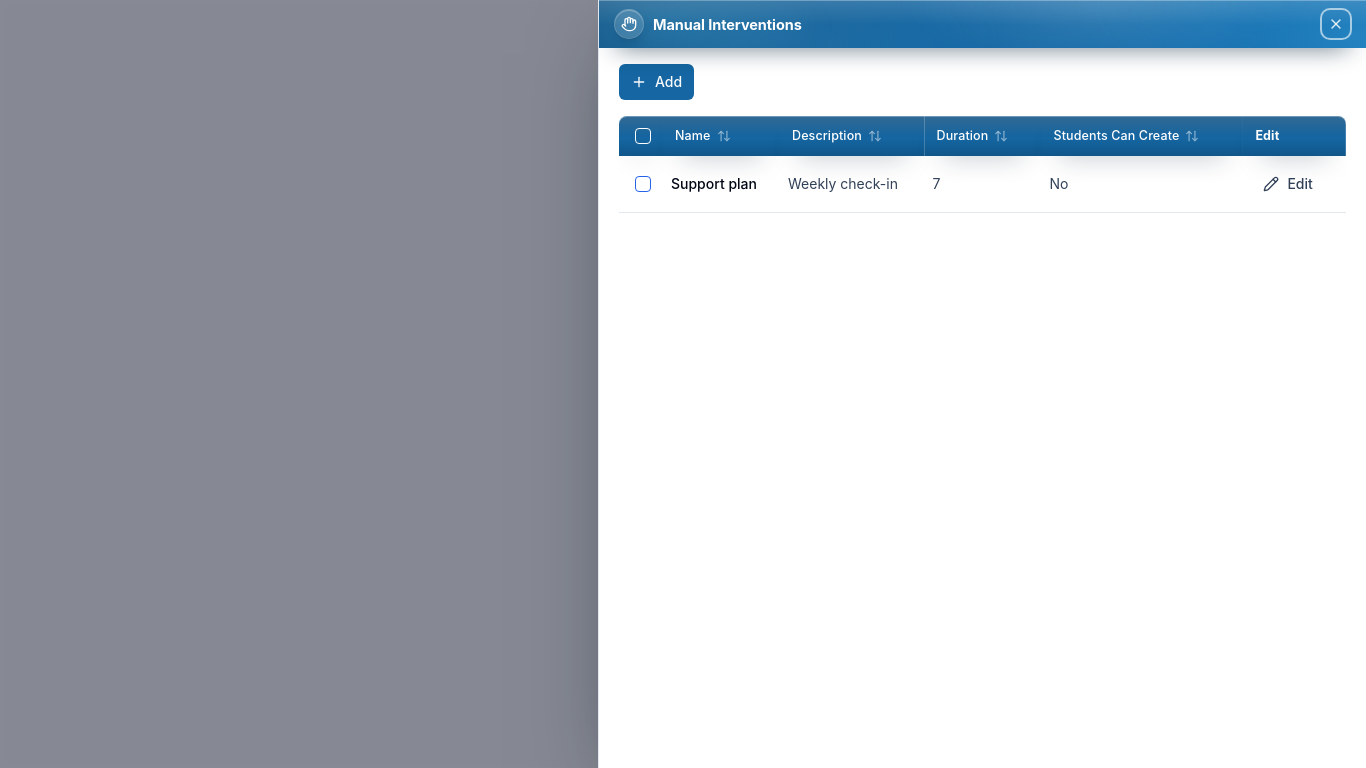
inline validation › shows per-field manual intervention errors that follow the current values
Expected: the text "Support plan" is shown, left=663, top=156, right=780, bottom=213
Click the button "Add".
click(657, 82)  # box left=619, top=64, right=694, bottom=100
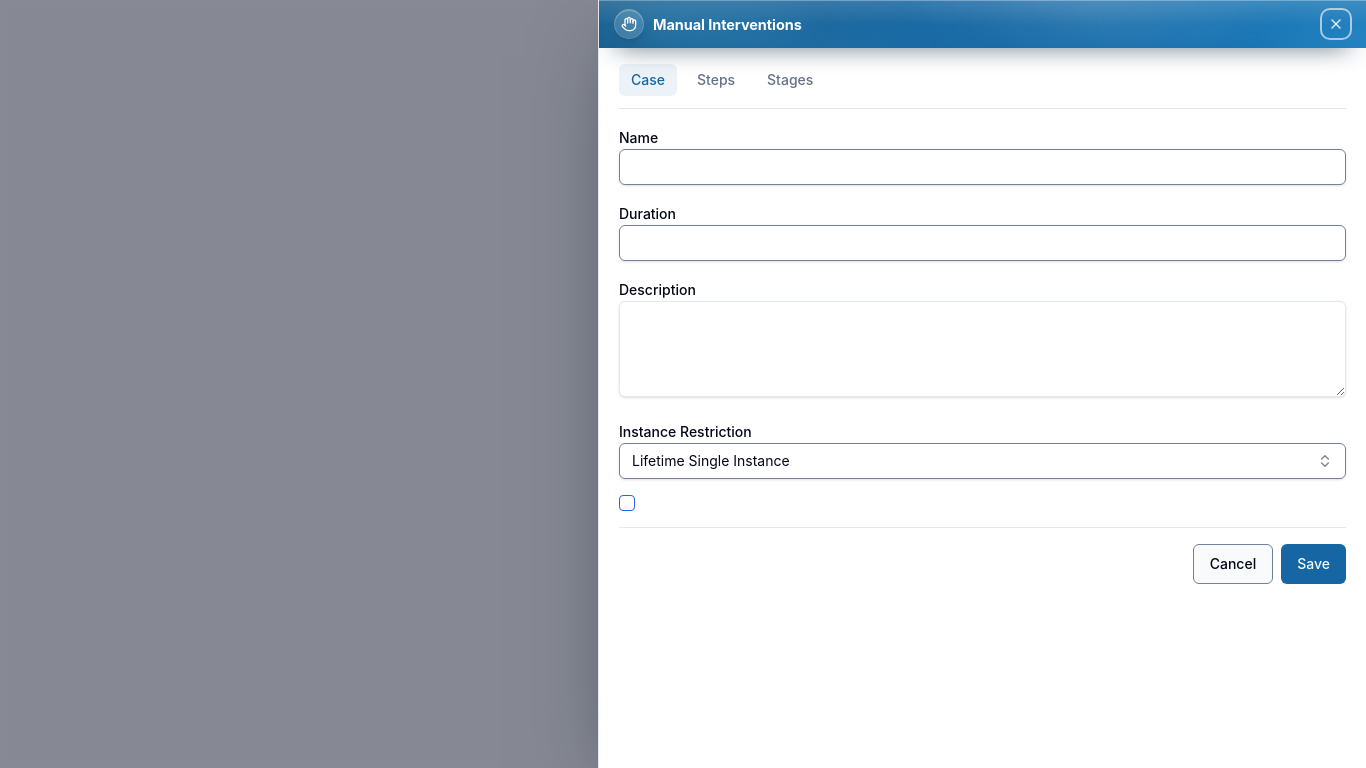
Click the button "Save".
click(1314, 564)  # box left=1281, top=544, right=1346, bottom=584
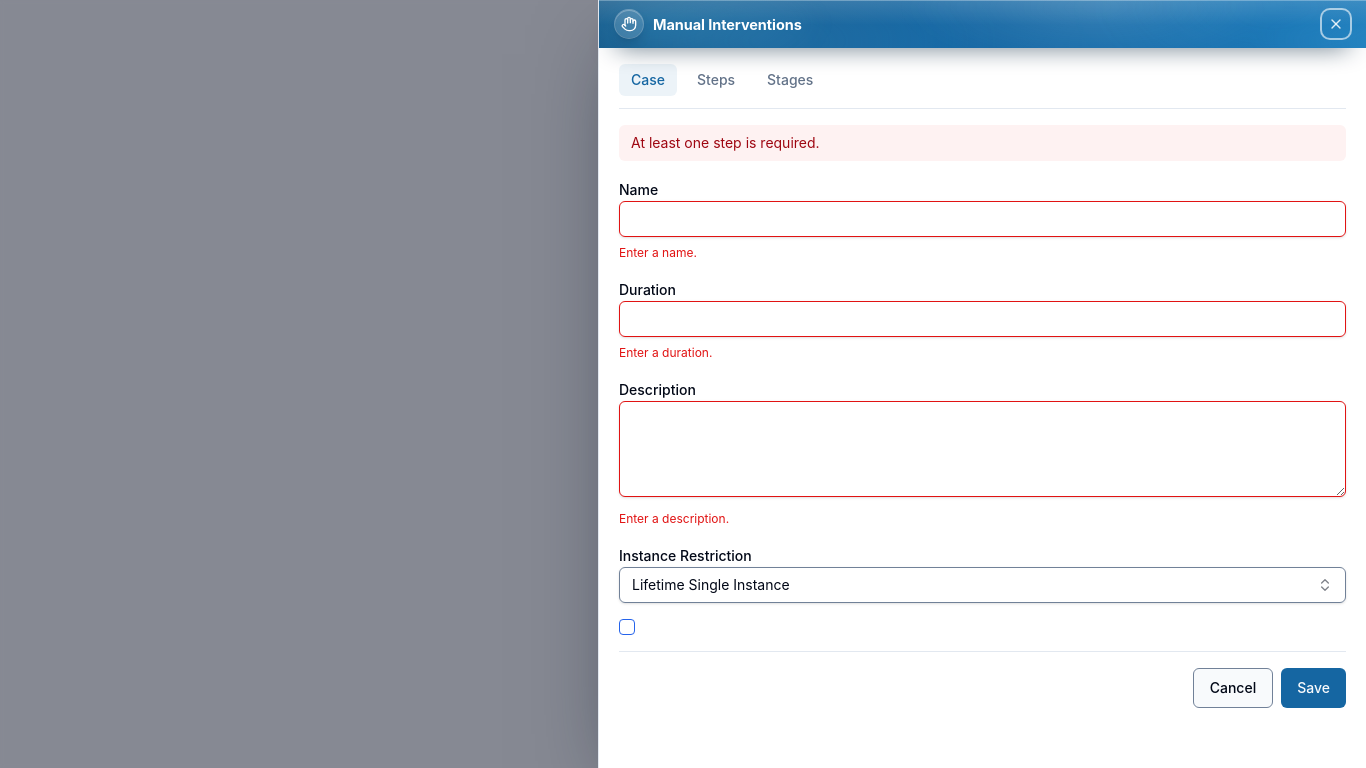
Now the text "Enter a name." is shown, box left=619, top=245, right=697, bottom=260
Now the text "Enter a description." is shown, box left=619, top=511, right=729, bottom=526
Now the message reads "At least one step is required.", box left=631, top=134, right=820, bottom=151
Type "Mentoring" into the field labelled "Name".
click(982, 219); type("Mentoring")  # box left=619, top=201, right=1346, bottom=237
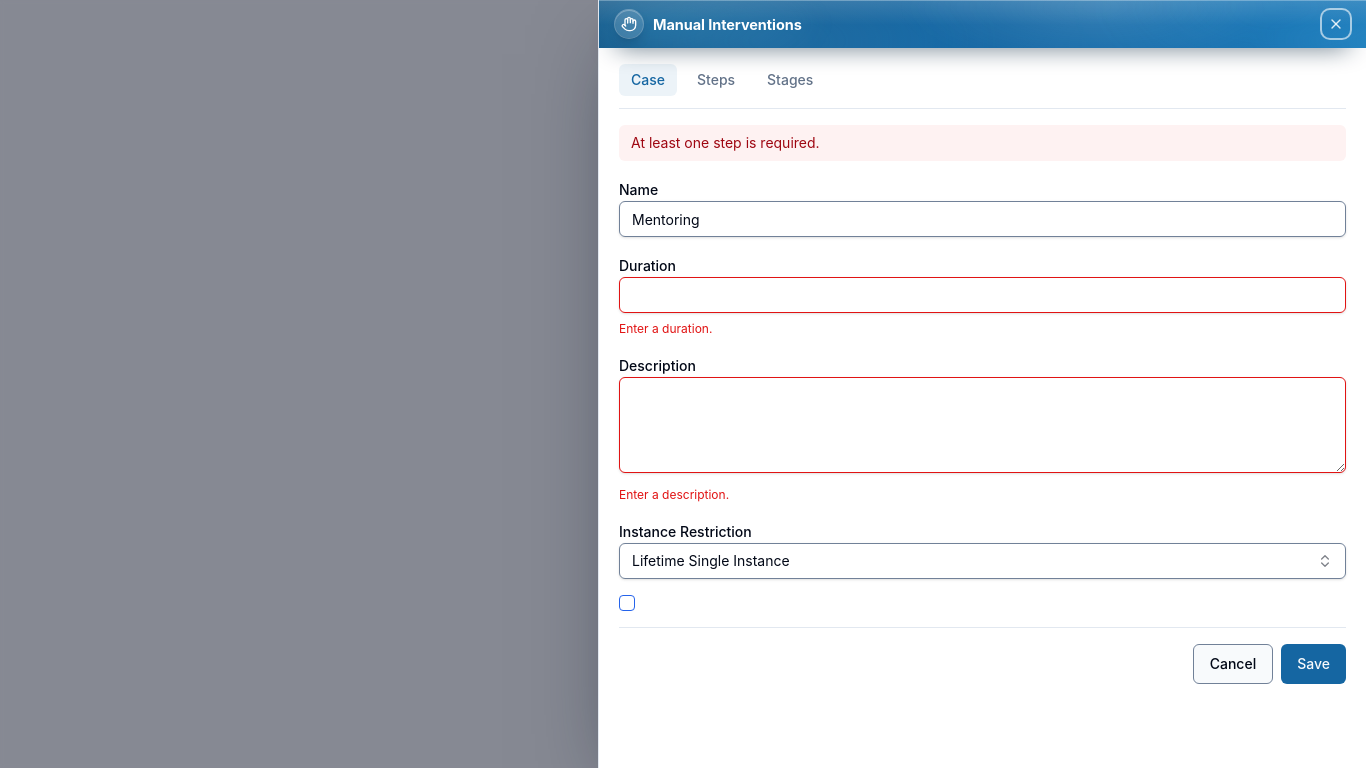
Now the text "Enter a name." is gone
